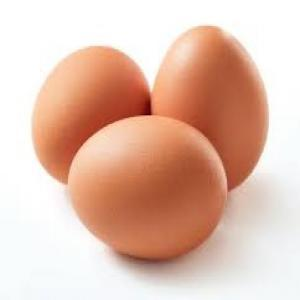Egg: (66, 113, 230, 264), (152, 24, 270, 194), (29, 44, 153, 186)
